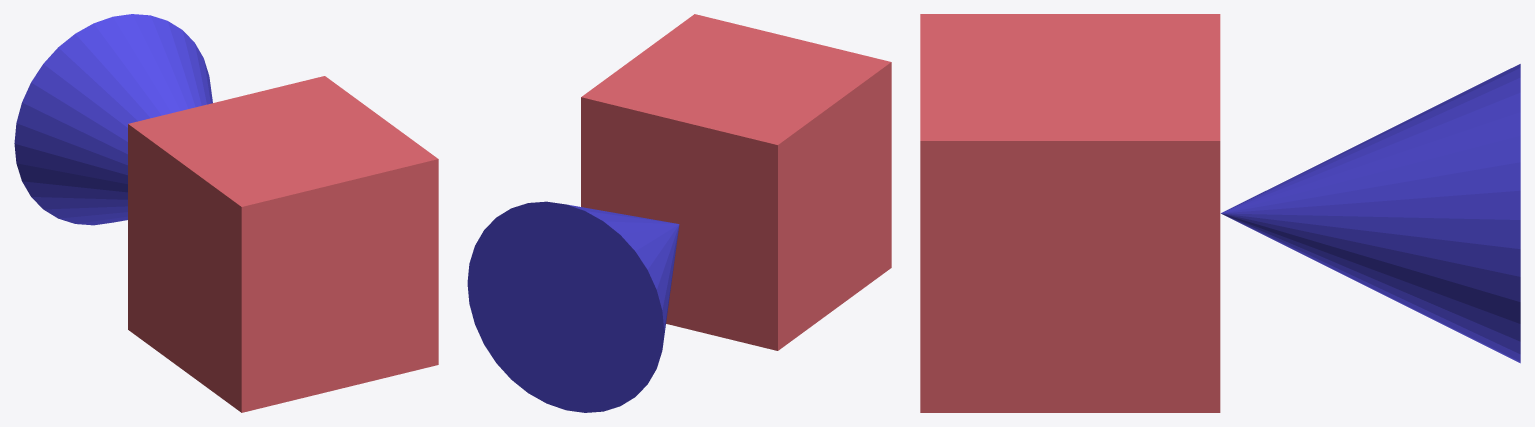
3 renders of one model, left to right at view 1: azimuth 30°, elevation 25°; view 2: azimuth 150°, elevation 25°; view 3: azimuth 270°, elevation 25°, orthographic. The views are drawn at different scales.
Visible parts, largest first — view 1: 立方体, 円錐; view 2: 立方体, 円錐; view 3: 立方体, 円錐.
Boxes of the visible parts, bbox=[...] form: 立方体: bbox=[128, 76, 438, 412]; 円錐: bbox=[14, 14, 212, 225]; 立方体: bbox=[581, 14, 891, 350]; 円錐: bbox=[467, 201, 679, 412]; 立方体: bbox=[920, 14, 1220, 412]; 円錐: bbox=[1221, 64, 1520, 363].
Bounding box in the file's own units: 2 × 2 × 4.
